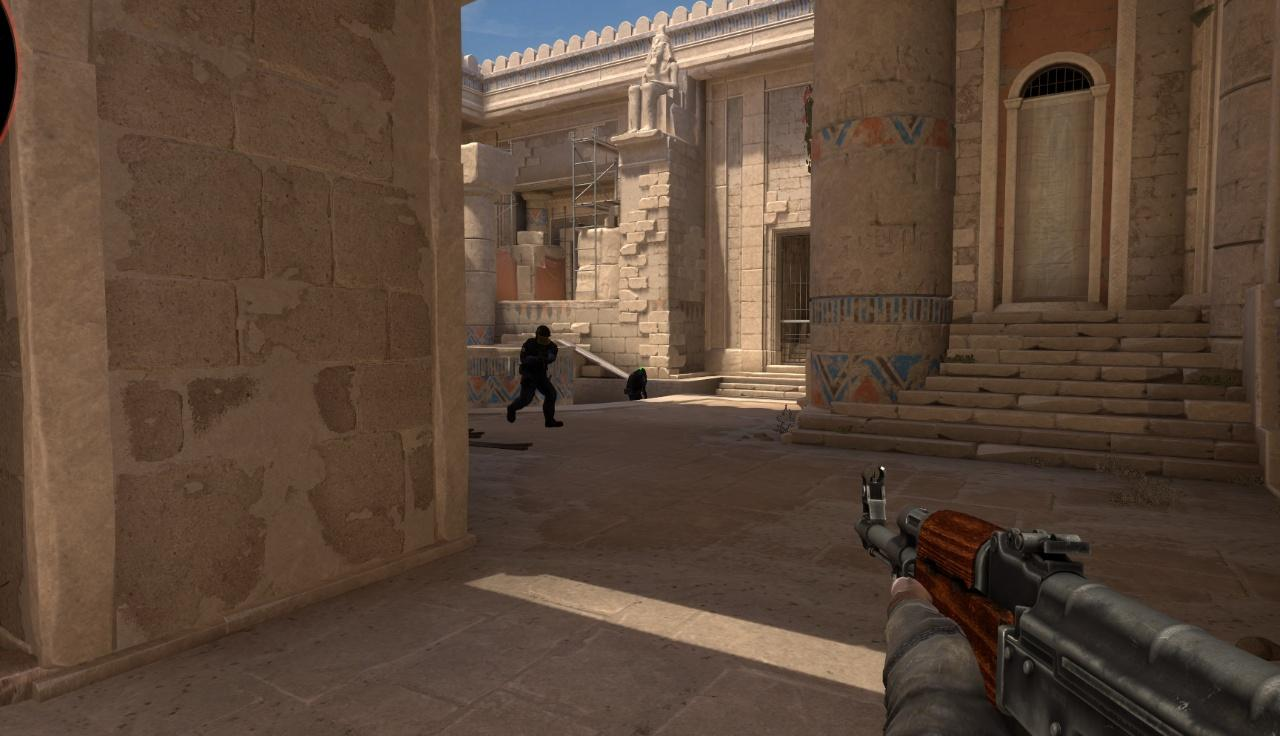ct: (519, 325, 558, 428), (626, 369, 647, 400)
cthead: (536, 325, 551, 345)
rifle: (844, 465, 1280, 736)
